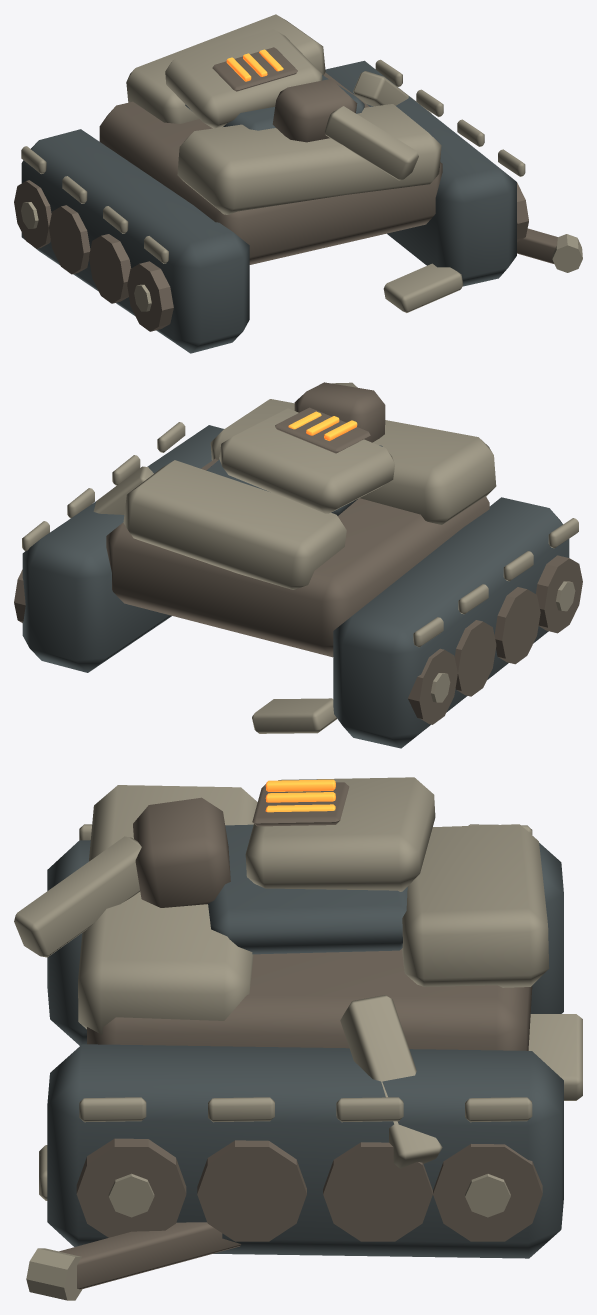
The model's file is shard-track-wreck.glb.
3 renders of one model, top to bottom at view 1: azimuth 30°, elevation 25°; view 2: azimuth 150°, elevation 25°; view 3: azimuth 270°, elevation 25°, orthographic. The views are drawn at different scales.
Parts seen in each view (by area): view 1: Drive hub, Broken track pod, Road wheel, Reactor vent slat; view 2: Drive hub, Broken track pod, Road wheel, Reactor vent slat; view 3: Drive hub, Broken track pod, Road wheel, Reactor vent slat.
Boxes of the visible parts, x1,y1,x2,y2 form: Drive hub: (21,14,582,312); Broken track pod: (21,60,516,353); Road wheel: (14,47,557,331); Reactor vent slat: (226,49,283,81); Drive hub: (22,382,578,733); Broken track pod: (22,425,569,748); Road wheel: (14,382,582,724); Reactor vent slat: (288,411,357,440); Drive hub: (14,777,582,1300); Broken track pod: (47,824,563,1258); Road wheel: (59,782,542,1289); Reactor vent slat: (265,779,335,812).
Size of the model in its own units: 2.84 by 1.37 by 2.12.
